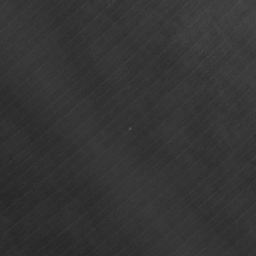Target: (127, 125, 132, 131)
